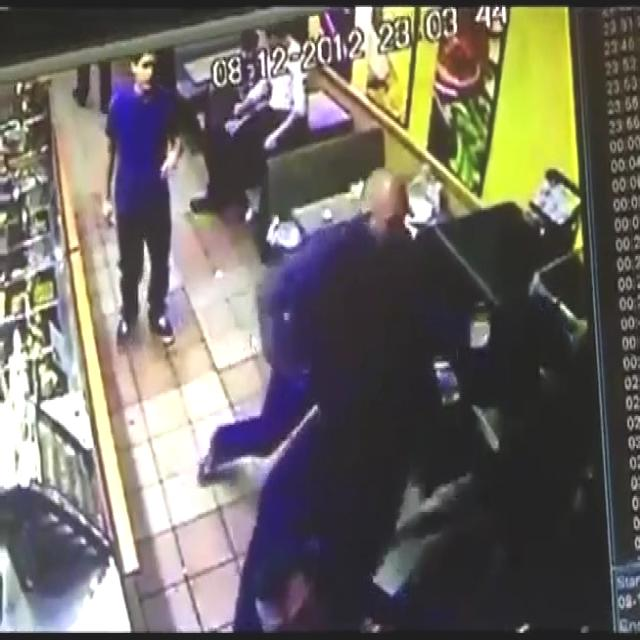fight: (254, 165, 447, 638)
